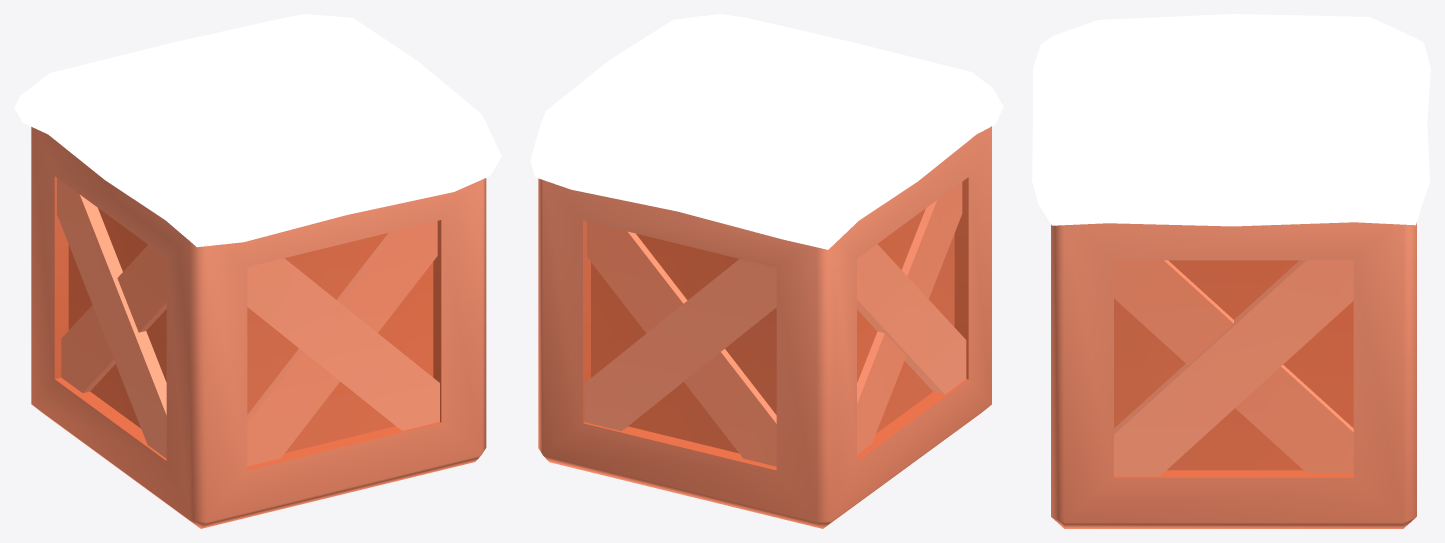
3 views of the same model, side by side, from view 1: azimuth 30°, elevation 25°; view 2: azimuth 150°, elevation 25°; view 3: azimuth 270°, elevation 25° (orthographic). The views are drawn at different scales.
Visible parts, largest first — view 1: box_001; view 2: box_001; view 3: box_001.
Part boxes in pixels (box(x1,y1,x2,y2)): box_001: box(14, 14, 501, 528); box_001: box(530, 14, 1003, 528); box_001: box(1032, 14, 1430, 528).
Size of the model in its own units: 1.12 by 1.19 by 1.09.
Materials: 2 (2 with a texture image).
